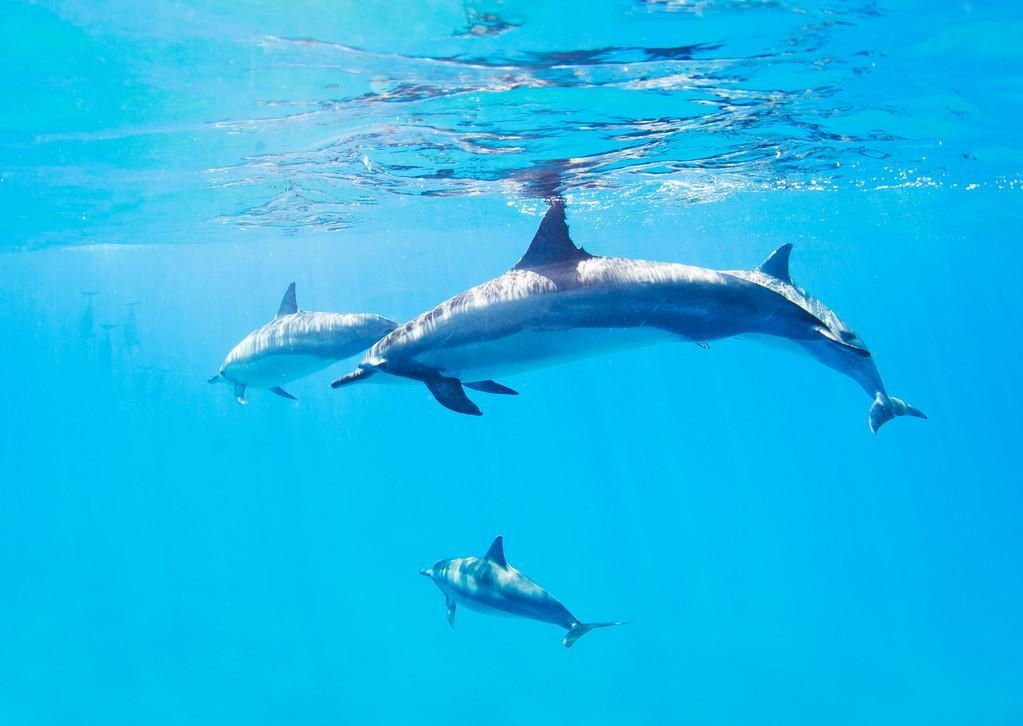fish: (328, 198, 939, 427), (411, 537, 641, 649), (213, 278, 410, 408)
